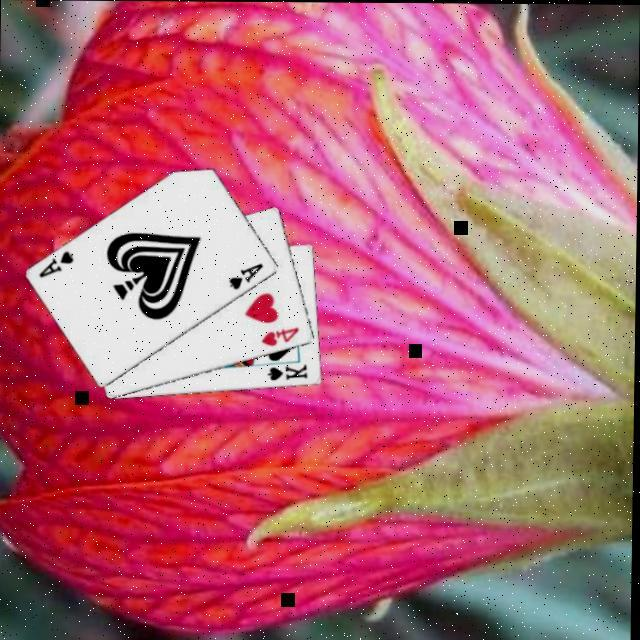4H: (260, 325, 304, 351)
AS: (37, 249, 78, 282), (227, 262, 268, 294)
KS: (267, 362, 313, 385)
